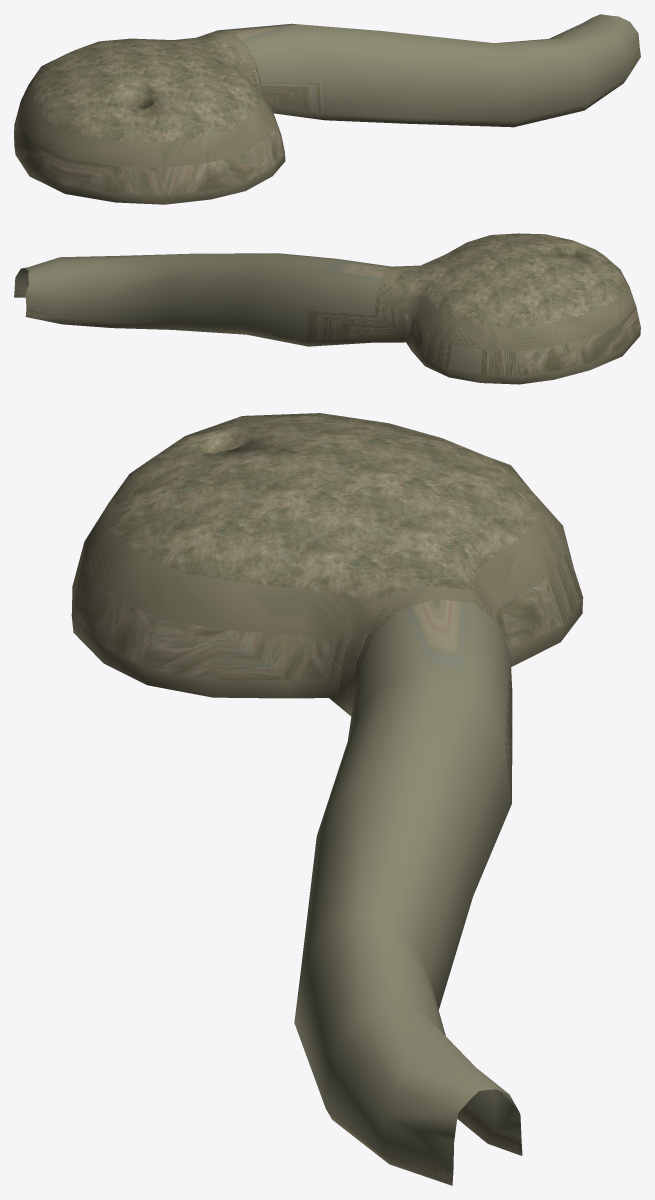
Rendered from EKH_ENTRANCE_PS_EN_CAVE_WALL_112.fbx.
3 views of the same model, one above another, from view 1: azimuth 30°, elevation 25°; view 2: azimuth 150°, elevation 25°; view 3: azimuth 270°, elevation 25° (orthographic). The views are drawn at different scales.
Parts seen in each view (by area): view 1: EKH_ENTRANCE_PS_EN_CAVE_WALL_112; view 2: EKH_ENTRANCE_PS_EN_CAVE_WALL_112; view 3: EKH_ENTRANCE_PS_EN_CAVE_WALL_112.
Boxes of the visible parts, x1,y1,x2,y2 form: EKH_ENTRANCE_PS_EN_CAVE_WALL_112: (14, 14, 640, 204); EKH_ENTRANCE_PS_EN_CAVE_WALL_112: (14, 233, 640, 384); EKH_ENTRANCE_PS_EN_CAVE_WALL_112: (71, 413, 583, 1185).
Bounding box in the file's own units: 261947 × 62008 × 100564.
1 material, 1 textured.
